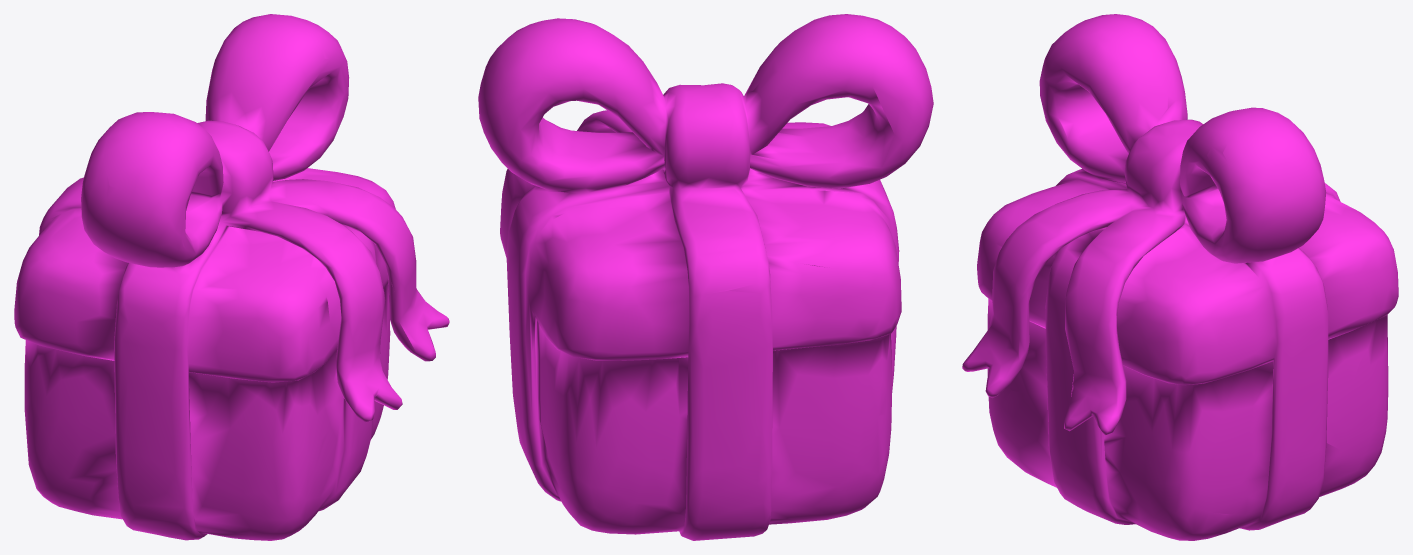
The model's file is Gift.glb.
3 renders of one model, left to right at view 1: azimuth 30°, elevation 25°; view 2: azimuth 150°, elevation 25°; view 3: azimuth 270°, elevation 25°, orthographic. The views are drawn at different scales.
Visible parts, largest first — view 1: 禮物; view 2: 禮物; view 3: 禮物.
Part boxes in pixels (left/top/right/bottom): 禮物: left=14, top=14, right=449, bottom=540; 禮物: left=478, top=14, right=933, bottom=540; 禮物: left=962, top=14, right=1398, bottom=540.
Size of the model in its own units: 0.0473 by 0.05 by 0.0473.
